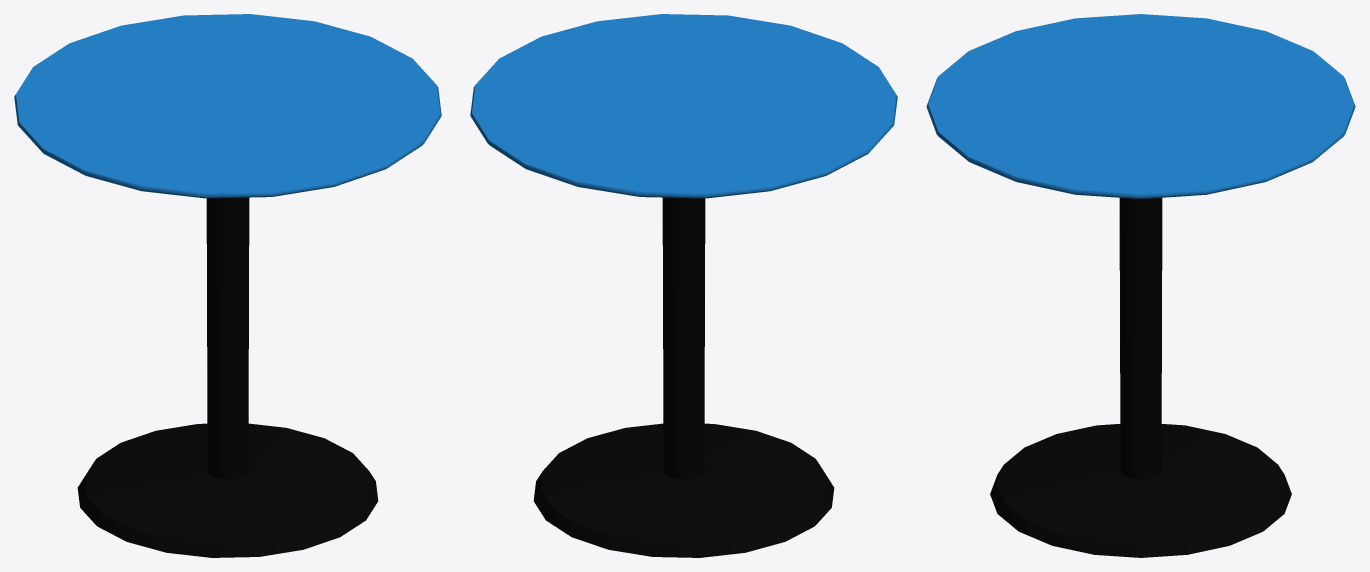
The model's file is Petite_Table_Bleue.FBX.
The picture shows the model from 3 angles, left to right: view 1: azimuth 30°, elevation 25°; view 2: azimuth 150°, elevation 25°; view 3: azimuth 270°, elevation 25°; orthographic projection.
Parts seen in each view (by area): view 1: Cylinder001; view 2: Cylinder001; view 3: Cylinder001.
Part boxes in pixels (box(x1,y1,x2,y2)): Cylinder001: box(14, 14, 441, 557); Cylinder001: box(470, 14, 897, 557); Cylinder001: box(926, 14, 1355, 557).
Bounding box in the file's own units: 58.78 × 58.96 × 58.78.
